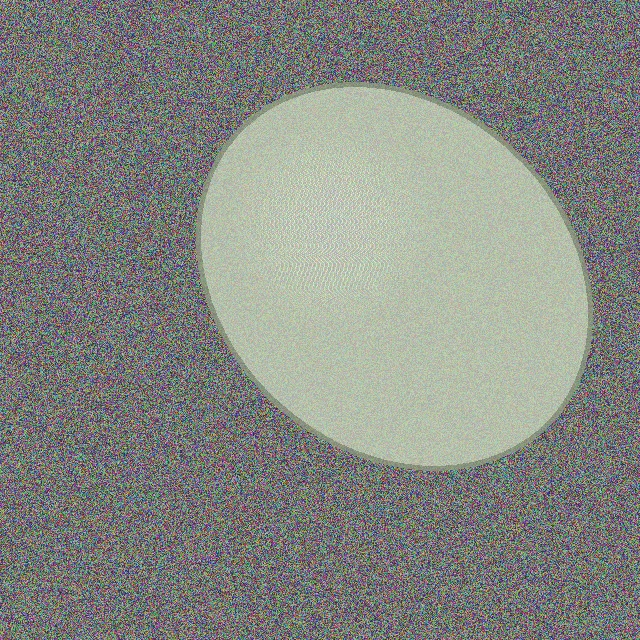lens: (199, 84, 589, 468)
